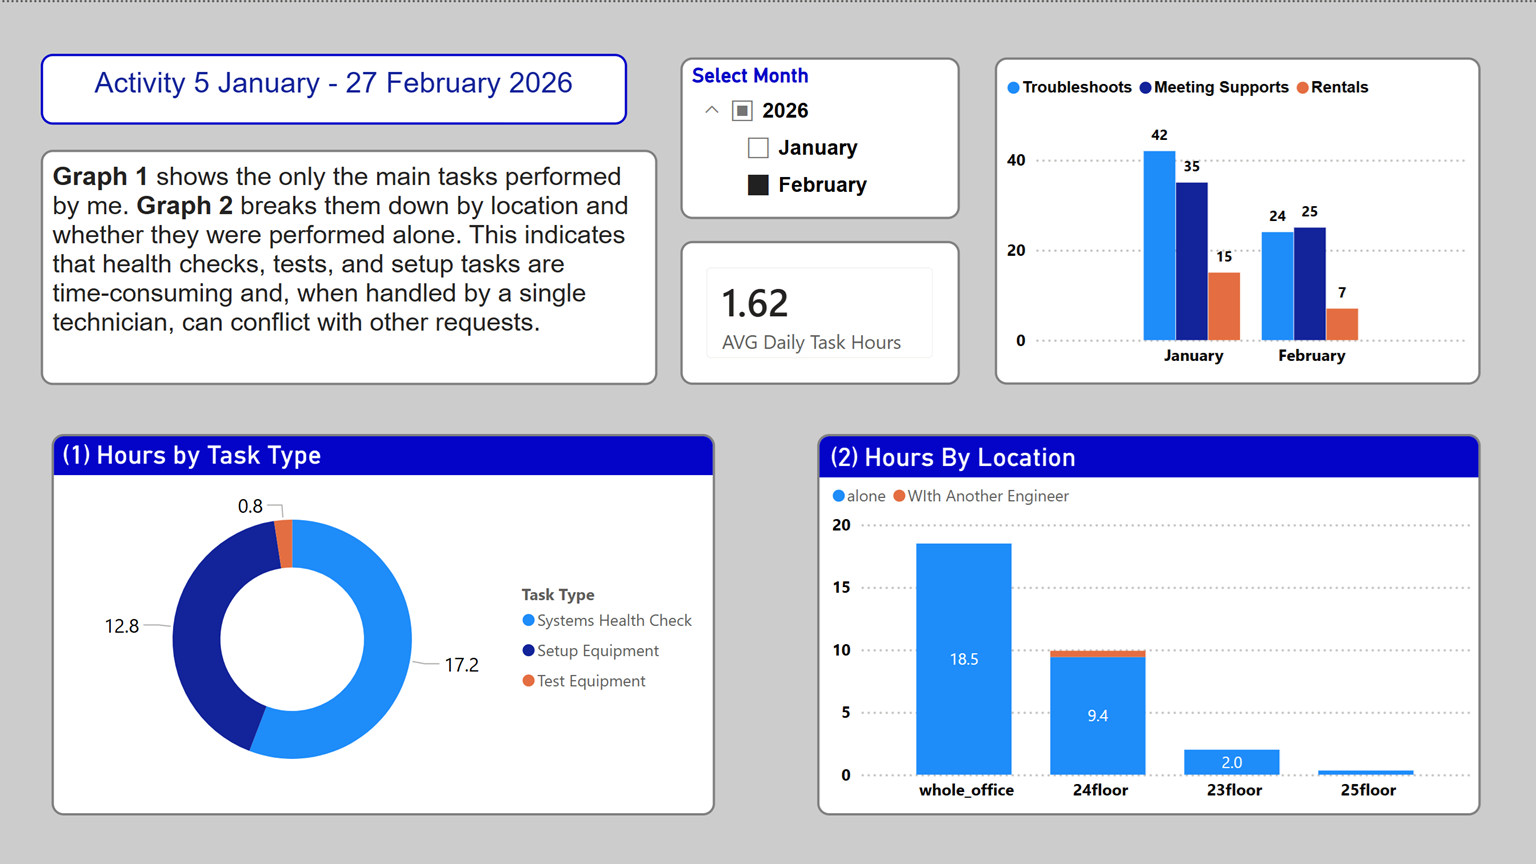

This screenshot's page, from the dashboard's own definition file:
{"tool":"powerbi","page":{"name":"Apostolos Main Tasks","canvas":[1280,720],"ordinal":0},"visuals":[{"type":"textbox","title":"Activity January 2026","box":[34.5,43.1,488.3,59.4],"z":0},{"type":"textbox","box":[34.5,122.5,513.1,196.3],"z":1000},{"type":"donutChart","title":"(1) Hours by Task Type","fields":{"Category":["apostolos_main_activities_2026.task_type"],"Y":["Sum(apostolos_main_activities_2026.Duration Hours)"]},"box":[43,360.3,552.6,317.3],"z":2000},{"type":"clusteredColumnChart","fields":{"Category":["meeting_trouble_rentals_2026.date.Variation.Date Hierarchy.Month"],"Y":["Sum(meeting_trouble_rentals_2026.troubleshoots)","Sum(meeting_trouble_rentals_2026.meeting_supports)","Sum(meeting_trouble_rentals_2026.Rentals)"]},"box":[829.1,46,405,272.8],"z":3000},{"type":"columnChart","title":"(2) Hours By Location","fields":{"Category":["apostolos_main_activities_2026.location"],"Series":["apostolos_main_activities_2026.alone_or_not"],"Y":["Sum(apostolos_main_activities_2026.Duration Hours)"]},"box":[681.5,360.3,552.6,317.3],"z":4000},{"type":"slicer","title":"Select Month","fields":{"Values":["apostolos_main_activities_2026.date.Variation.Date Hierarchy.Year","apostolos_main_activities_2026.date.Variation.Date Hierarchy.Month"]},"box":[566.8,46,233.6,135],"z":5000},{"type":"cardVisual","fields":{"Data":["apostolos_main_activities_2026.Avg Daily Task Hours"]},"box":[566.8,199.1,233.6,119.7],"z":6000}]}

Visuals, with their boxes in screenshot pixels (x1, y1, x2, y2), scaled from the page's 1280x720 canvas onto the 1536x864 screenshot:
"Activity January 2026" textbox: left=41, top=52, right=627, bottom=123
textbox: left=41, top=147, right=657, bottom=383
"(1) Hours by Task Type" donutChart: left=52, top=432, right=715, bottom=813
clusteredColumnChart - meeting_trouble_rentals_2026.date.Variation.Date Hierarchy.Month x Sum(meeting_trouble_rentals_2026.troubleshoots): left=995, top=55, right=1481, bottom=383
"(2) Hours By Location" columnChart: left=818, top=432, right=1481, bottom=813
"Select Month" slicer: left=680, top=55, right=960, bottom=217
cardVisual - apostolos_main_activities_2026.Avg Daily Task Hours: left=680, top=239, right=960, bottom=383
